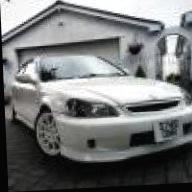License_Plate: (150, 117, 188, 146)
